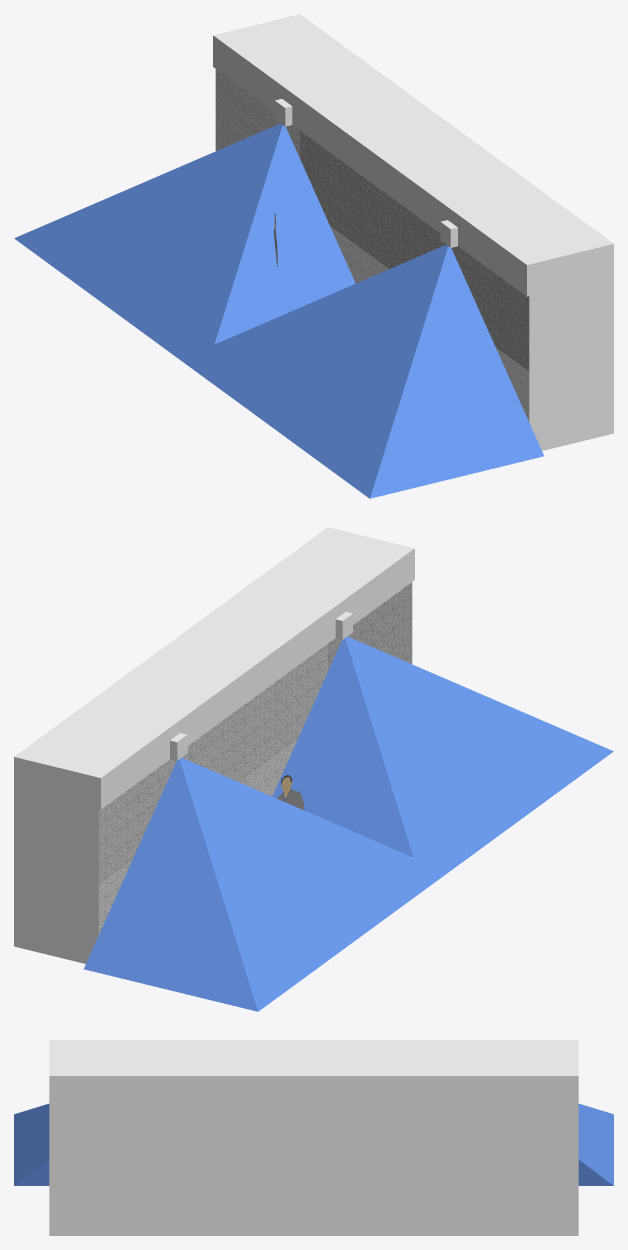
Rendered from SETS_ASTRA.obj.
The picture shows the model from 3 angles, top to bottom: view 1: azimuth 30°, elevation 25°; view 2: azimuth 150°, elevation 25°; view 3: azimuth 270°, elevation 25°; orthographic projection. The views are drawn at different scales.
Parts seen in each view (by area): view 1: Mesh9 Componente_6_1 Componente_8_1 Model, Mesh7 Componente_5_2 Group2 Componente_8_1 Model, Mesh3 Componente_5_1 Group1 Componente_8_1 Model; view 2: Mesh9 Componente_6_1 Componente_8_1 Model, Mesh3 Componente_5_1 Group1 Componente_8_1 Model, Mesh7 Componente_5_2 Group2 Componente_8_1 Model; view 3: Mesh9 Componente_6_1 Componente_8_1 Model, Mesh3 Componente_5_1 Group1 Componente_8_1 Model, Mesh7 Componente_5_2 Group2 Componente_8_1 Model.
Part boxes in pixels (bbox=[...]): Mesh9 Componente_6_1 Componente_8_1 Model: bbox=[213, 14, 613, 450]; Mesh7 Componente_5_2 Group2 Componente_8_1 Model: bbox=[180, 245, 543, 498]; Mesh3 Componente_5_1 Group1 Componente_8_1 Model: bbox=[14, 123, 355, 376]; Mesh9 Componente_6_1 Componente_8_1 Model: bbox=[14, 527, 414, 963]; Mesh3 Componente_5_1 Group1 Componente_8_1 Model: bbox=[84, 758, 423, 1011]; Mesh7 Componente_5_2 Group2 Componente_8_1 Model: bbox=[272, 636, 613, 890]; Mesh9 Componente_6_1 Componente_8_1 Model: bbox=[49, 1040, 578, 1235]; Mesh3 Componente_5_1 Group1 Componente_8_1 Model: bbox=[578, 1103, 613, 1185]; Mesh7 Componente_5_2 Group2 Componente_8_1 Model: bbox=[14, 1103, 49, 1185].
Size of the model in its own units: 4390 by 3000 by 10203.
